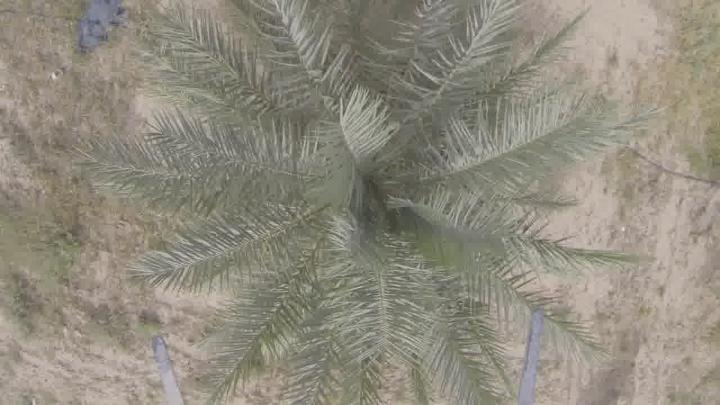Date-Palm-Crown: (198, 58, 507, 374)
